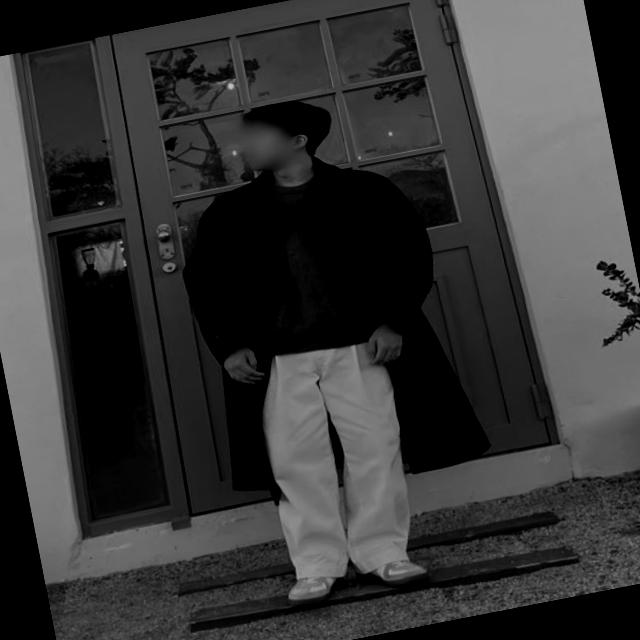coat: (169, 137, 497, 508)
cottonpants: (244, 333, 430, 588)
sweater: (230, 166, 379, 364)
